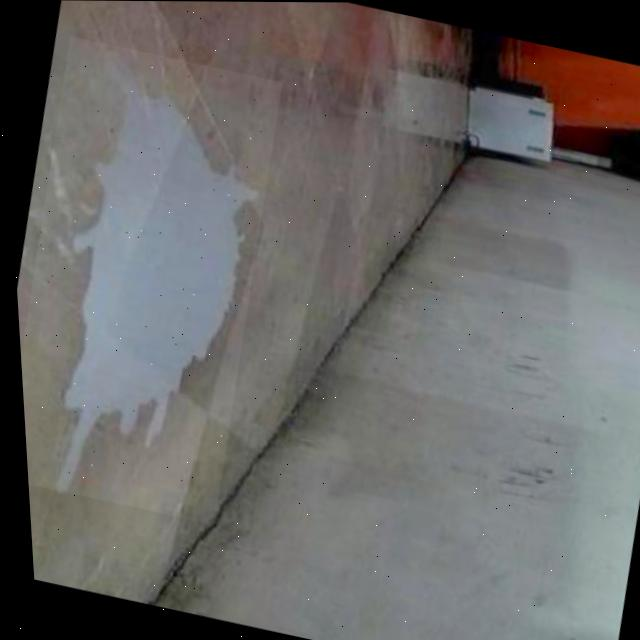spillage: (52, 45, 257, 490)
